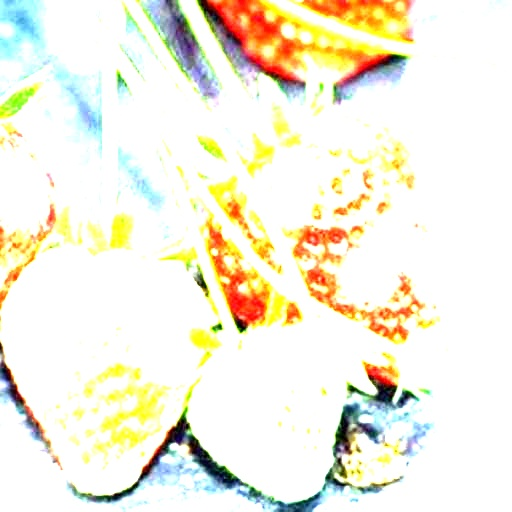Powdery Mildew Fruit: (226, 112, 441, 339)
